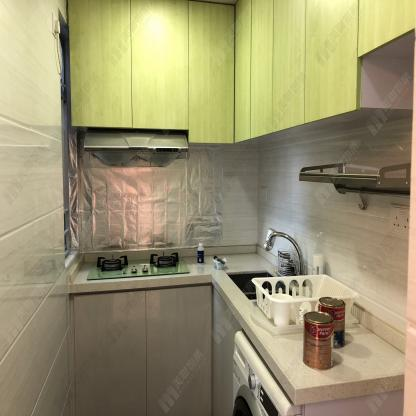Cupboard: (66, 0, 236, 145)
Exhaust Hood: (84, 130, 188, 169)
Faucet: (257, 225, 308, 276)
Stove: (85, 249, 194, 292)
Washing Machine: (231, 328, 302, 416)
